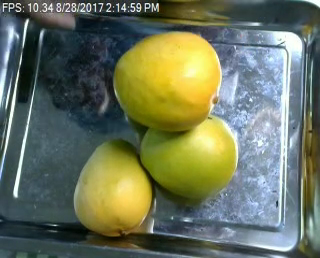Mango: (114, 29, 221, 131), (141, 111, 236, 199), (72, 139, 152, 235)
